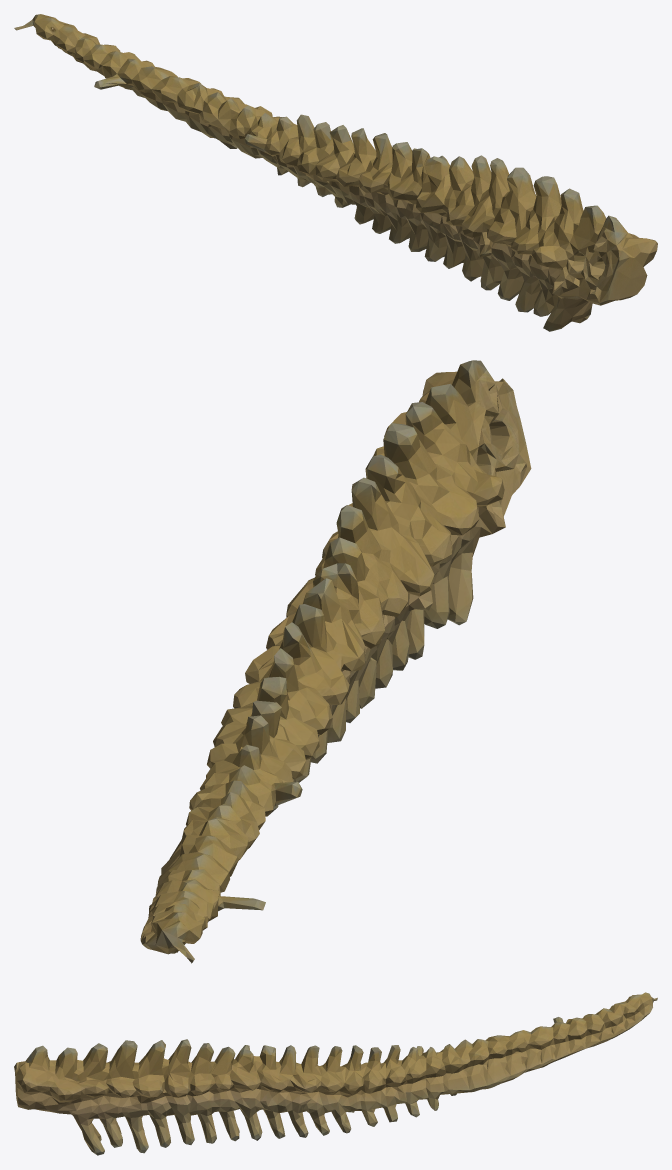
The model's file is bone3.glb.
3 renders of one model, top to bottom at view 1: azimuth 30°, elevation 25°; view 2: azimuth 150°, elevation 25°; view 3: azimuth 270°, elevation 25°, orthographic. The views are drawn at different scales.
Visible parts, largest first — view 1: tripo_node_00635f1b-3409-4396-b111-cbaf7c33e9d1; view 2: tripo_node_00635f1b-3409-4396-b111-cbaf7c33e9d1; view 3: tripo_node_00635f1b-3409-4396-b111-cbaf7c33e9d1.
Boxes of the visible parts, left/top/right/bottom form: tripo_node_00635f1b-3409-4396-b111-cbaf7c33e9d1: left=14, top=14, right=657, bottom=331; tripo_node_00635f1b-3409-4396-b111-cbaf7c33e9d1: left=140, top=360, right=531, bottom=963; tripo_node_00635f1b-3409-4396-b111-cbaf7c33e9d1: left=14, top=992, right=657, bottom=1155.
Bounding box in the file's own units: 0.3528 × 0.1838 × 0.9834.
Materials: 1 (1 with a texture image).
